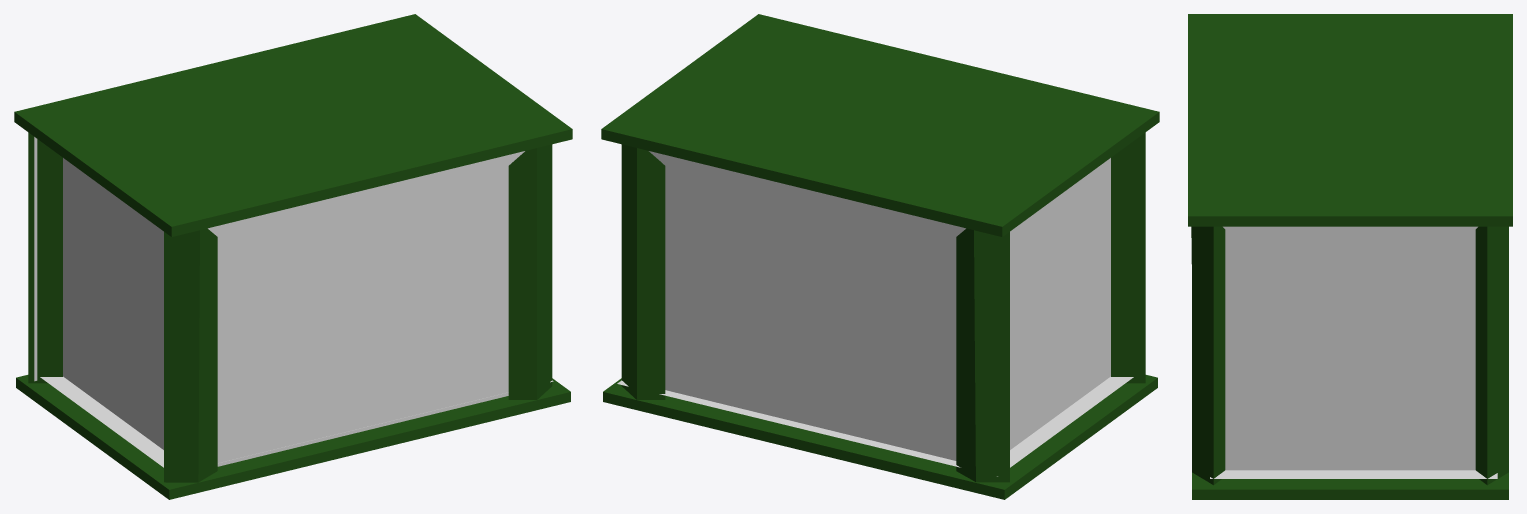
The model's file is capsula.fbx.
The picture shows the model from 3 angles, left to right: view 1: azimuth 30°, elevation 25°; view 2: azimuth 150°, elevation 25°; view 3: azimuth 270°, elevation 25°; orthographic projection. The views are drawn at different scales.
Parts seen in each view (by area): view 1: capsula, cristales; view 2: capsula, cristales; view 3: capsula, cristales.
Part boxes in pixels (x1,y1,x2,y2): capsula: (14, 14, 572, 499); cristales: (34, 137, 553, 467); capsula: (601, 14, 1159, 499); cristales: (617, 151, 1133, 476); capsula: (1188, 14, 1512, 499); cristales: (1210, 226, 1497, 478).
Bounding box in the file's own units: 4.1 × 2.68 × 2.78.
